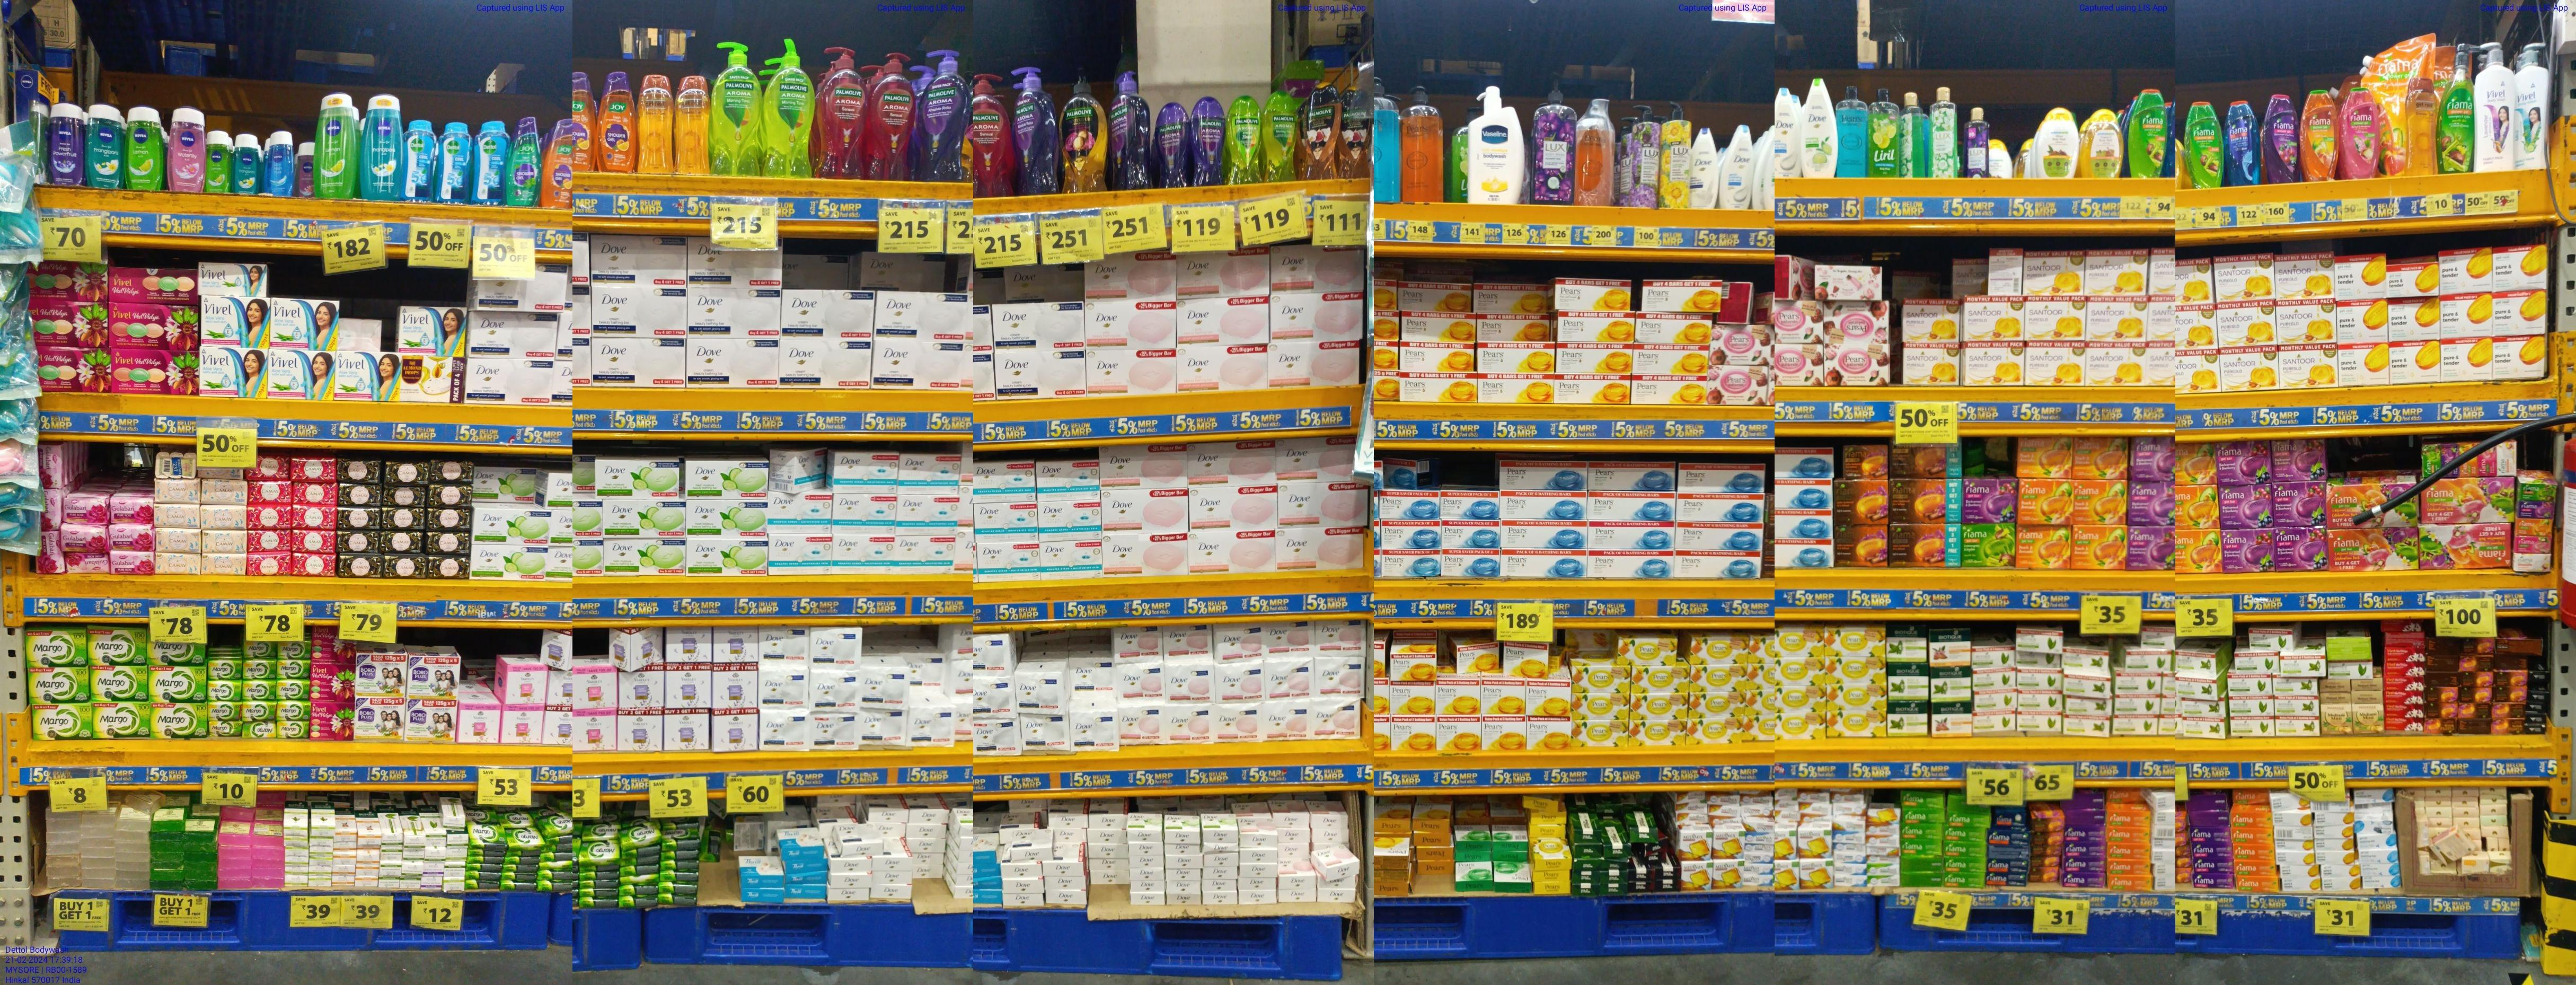Dettol_Bodywash_Cool: (471, 118, 508, 206), (437, 120, 473, 206), (404, 118, 437, 202)
Dove_Deep_Moisture_Body_Wash_250ML: (1690, 127, 1718, 209)
Dove_Gentle_Exfoliating_Body_Wash_250ML: (1717, 123, 1755, 209)
Dove_Refreshing_Body_Wash_250ML: (1799, 76, 1838, 178)
Get_Real_Shower_Gel_Moisturising_Glycerin_300ML: (674, 71, 711, 174), (637, 71, 674, 174)
Joy_Shower_Gel_Mandarin_and_Lemongrass_250ML: (596, 71, 637, 171)
Joy_Shower_Gel_Mint_and_Eucalyptus_250ML: (508, 115, 542, 206)
Liril_Lime_and_Tea_Tree_Oil_Body_Wash_250ML: (1866, 87, 1901, 176)
Lux_Body_Wash_Skin_Detox_Freesia_Scent_and_Alove_Vera_245ML: (1927, 86, 1958, 178), (1901, 90, 1927, 178), (1963, 105, 1989, 178)
Nivea_Shower_Gel_Frangipani_and_Oil_250ML: (360, 92, 406, 201), (84, 102, 125, 187)
Nivea_Shower_Gel_Fresh_Powerfruit_250ML: (46, 100, 84, 184)
Nivea_Shower_Gel_Lemon_and_Oil_250ML: (312, 90, 356, 199), (125, 104, 164, 192)
Nivea_Shower_Gel_Waterlily_and_Oil_250ML: (166, 104, 205, 192)
Palmolive_Aroma_Morning_Tonic_Shower_Gel_250ML: (1226, 92, 1262, 184), (1260, 90, 1296, 183)
Palmolive_Aroma_Relax_250ML: (1189, 95, 1226, 187), (1155, 100, 1189, 187)
Palmolive_Luminous_Oils_With_White_Orchid_Shower_Gel_250ML: (1304, 79, 1342, 181)
Pears_Pure_Glycerin_and_Mint_Extracts_Body_Wash_250ML: (1837, 84, 1866, 178)
